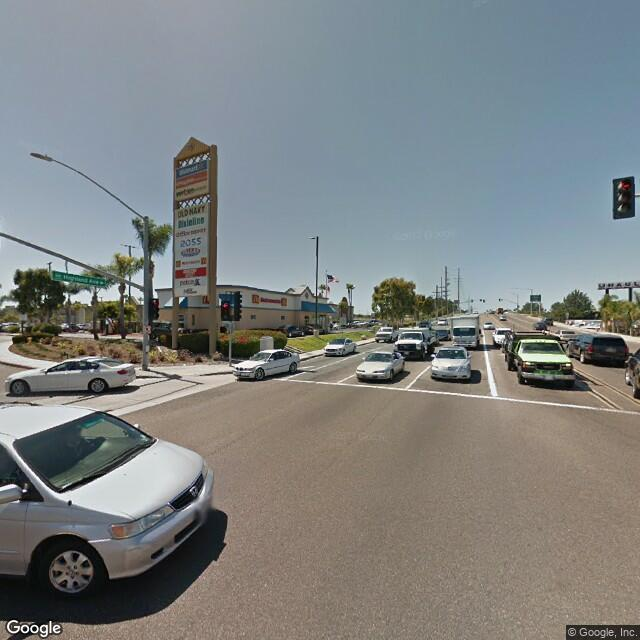litter: (179, 360, 190, 366)
